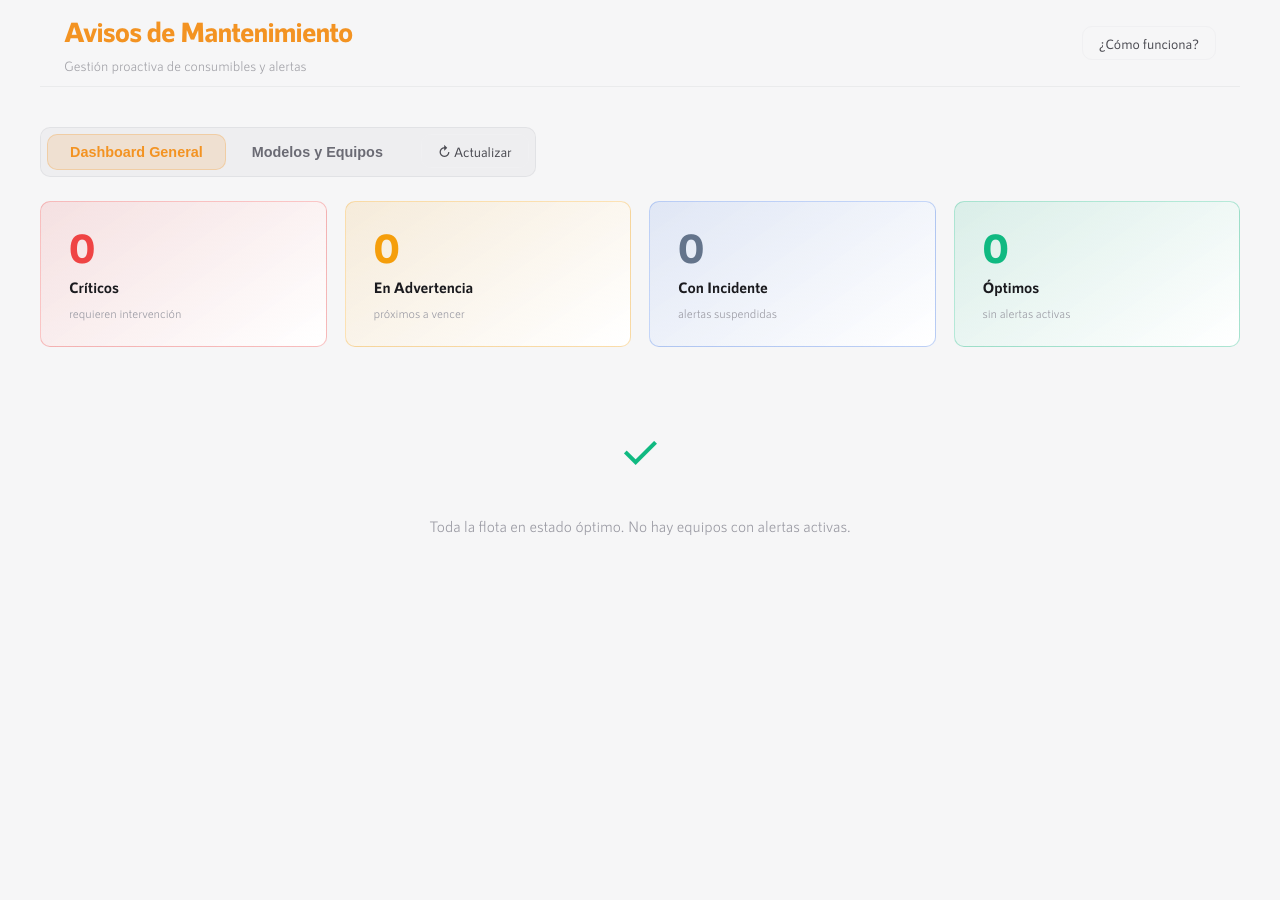
Test case: AvisosPage Integration › renders the empty state when no family is selected
Expected: the heading "Avisos de Mantenimiento" is shown, [64, 10, 352, 53]
Click the button "Modelos y Equipos": (317, 152) [230, 136, 405, 170]
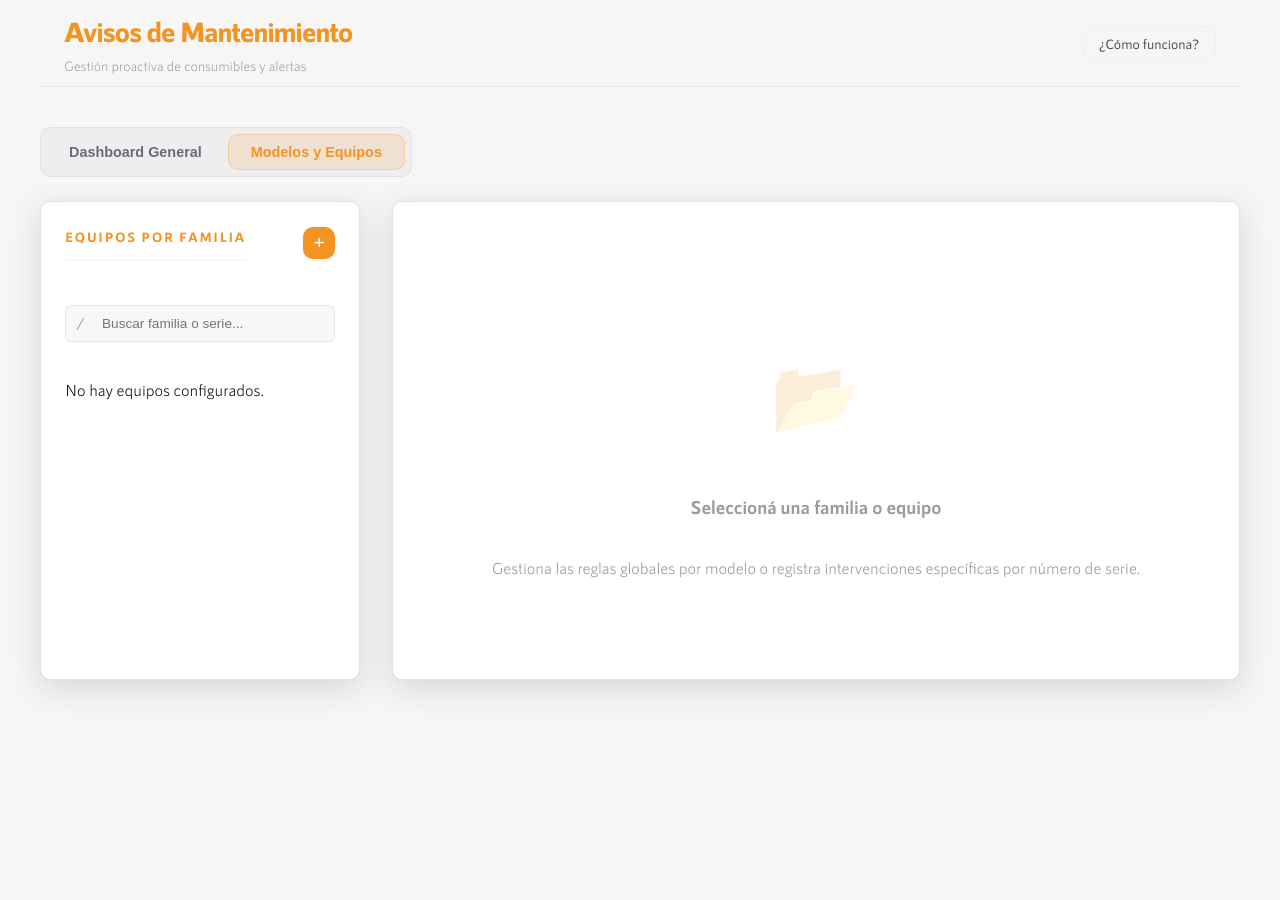
Expected: the heading "Seleccioná una familia o equipo" is shown, [691, 492, 941, 521]
